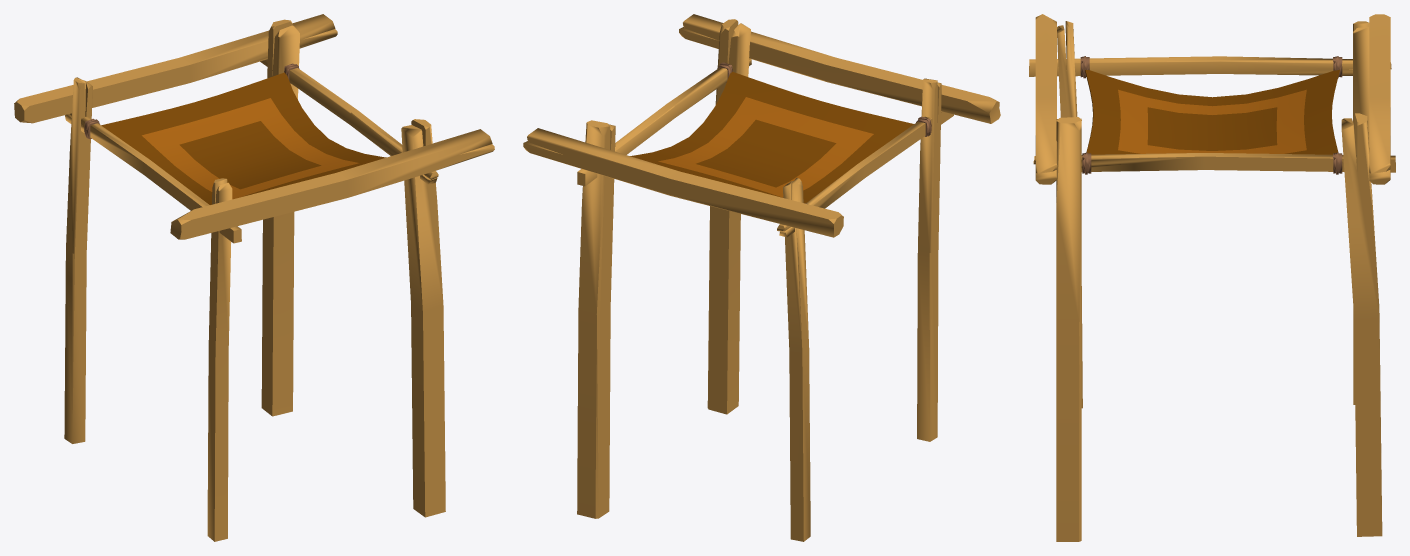
Rendered from Module_Awning_Small_LOD01.fbx.
The picture shows the model from 3 angles, left to right: view 1: azimuth 30°, elevation 25°; view 2: azimuth 150°, elevation 25°; view 3: azimuth 270°, elevation 25°; orthographic projection. The views are drawn at different scales.
Visible parts, largest first — view 1: Module_Awning_Small_LOD01_Geometry; view 2: Module_Awning_Small_LOD01_Geometry; view 3: Module_Awning_Small_LOD01_Geometry.
Part boxes in pixels (<box>): Module_Awning_Small_LOD01_Geometry: <box>14,14,494,541</box>; Module_Awning_Small_LOD01_Geometry: <box>523,14,1000,541</box>; Module_Awning_Small_LOD01_Geometry: <box>1029,14,1395,541</box>.
Size of the model in its own units: 4.14 by 4.9 by 3.93.
